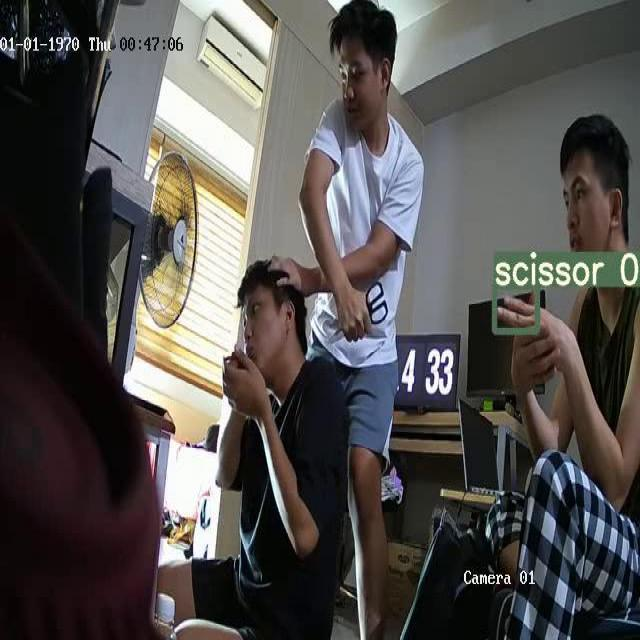scissor: (333, 284, 389, 346)
